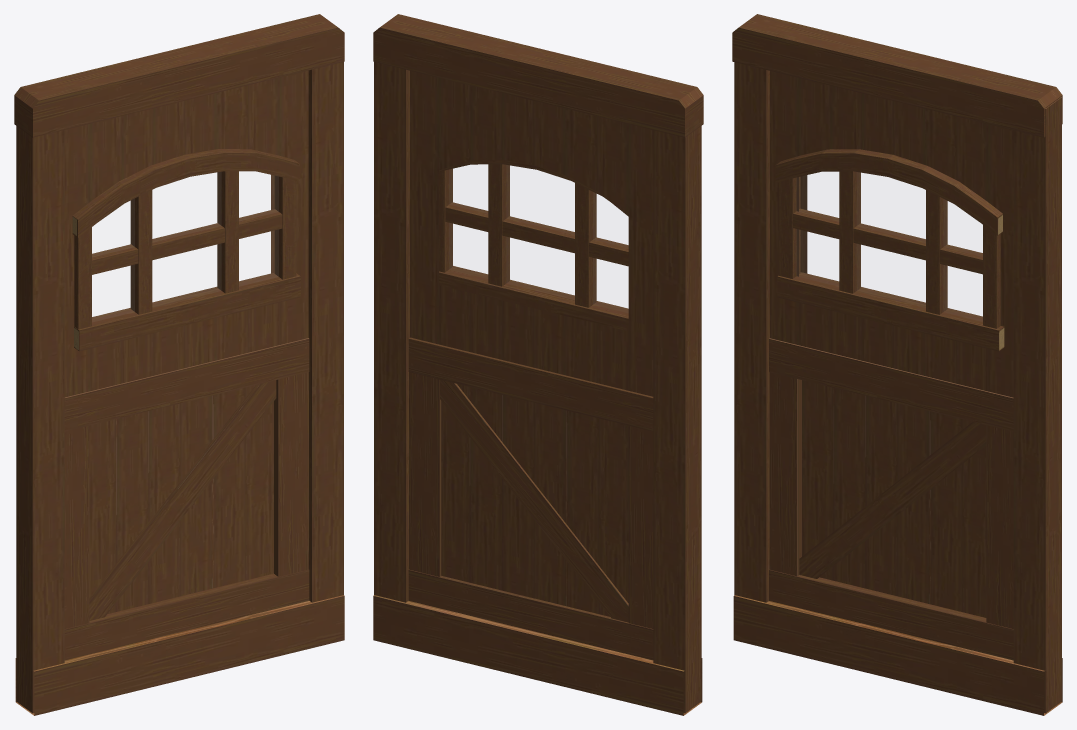
The model's file is door_1_flat.glb.
3 renders of one model, left to right at view 1: azimuth 30°, elevation 25°; view 2: azimuth 150°, elevation 25°; view 3: azimuth 330°, elevation 25°, orthographic.
Bounding box in the file's own units: 1.12 × 2.1 × 0.1207.
Materials: 2 (1 with a texture image).
